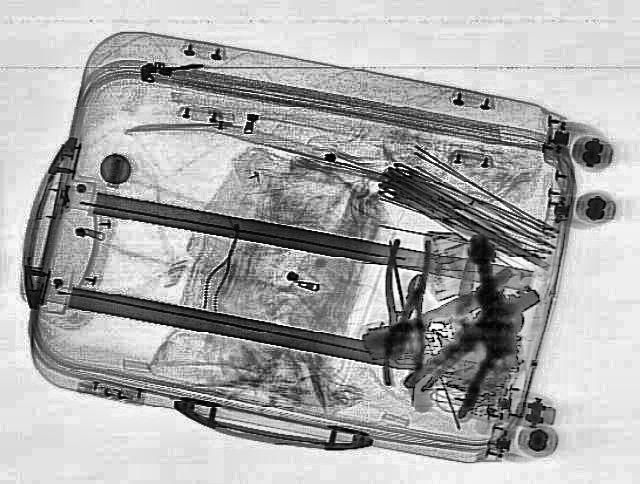Pliers: (376, 268, 438, 386), (374, 237, 430, 351)
